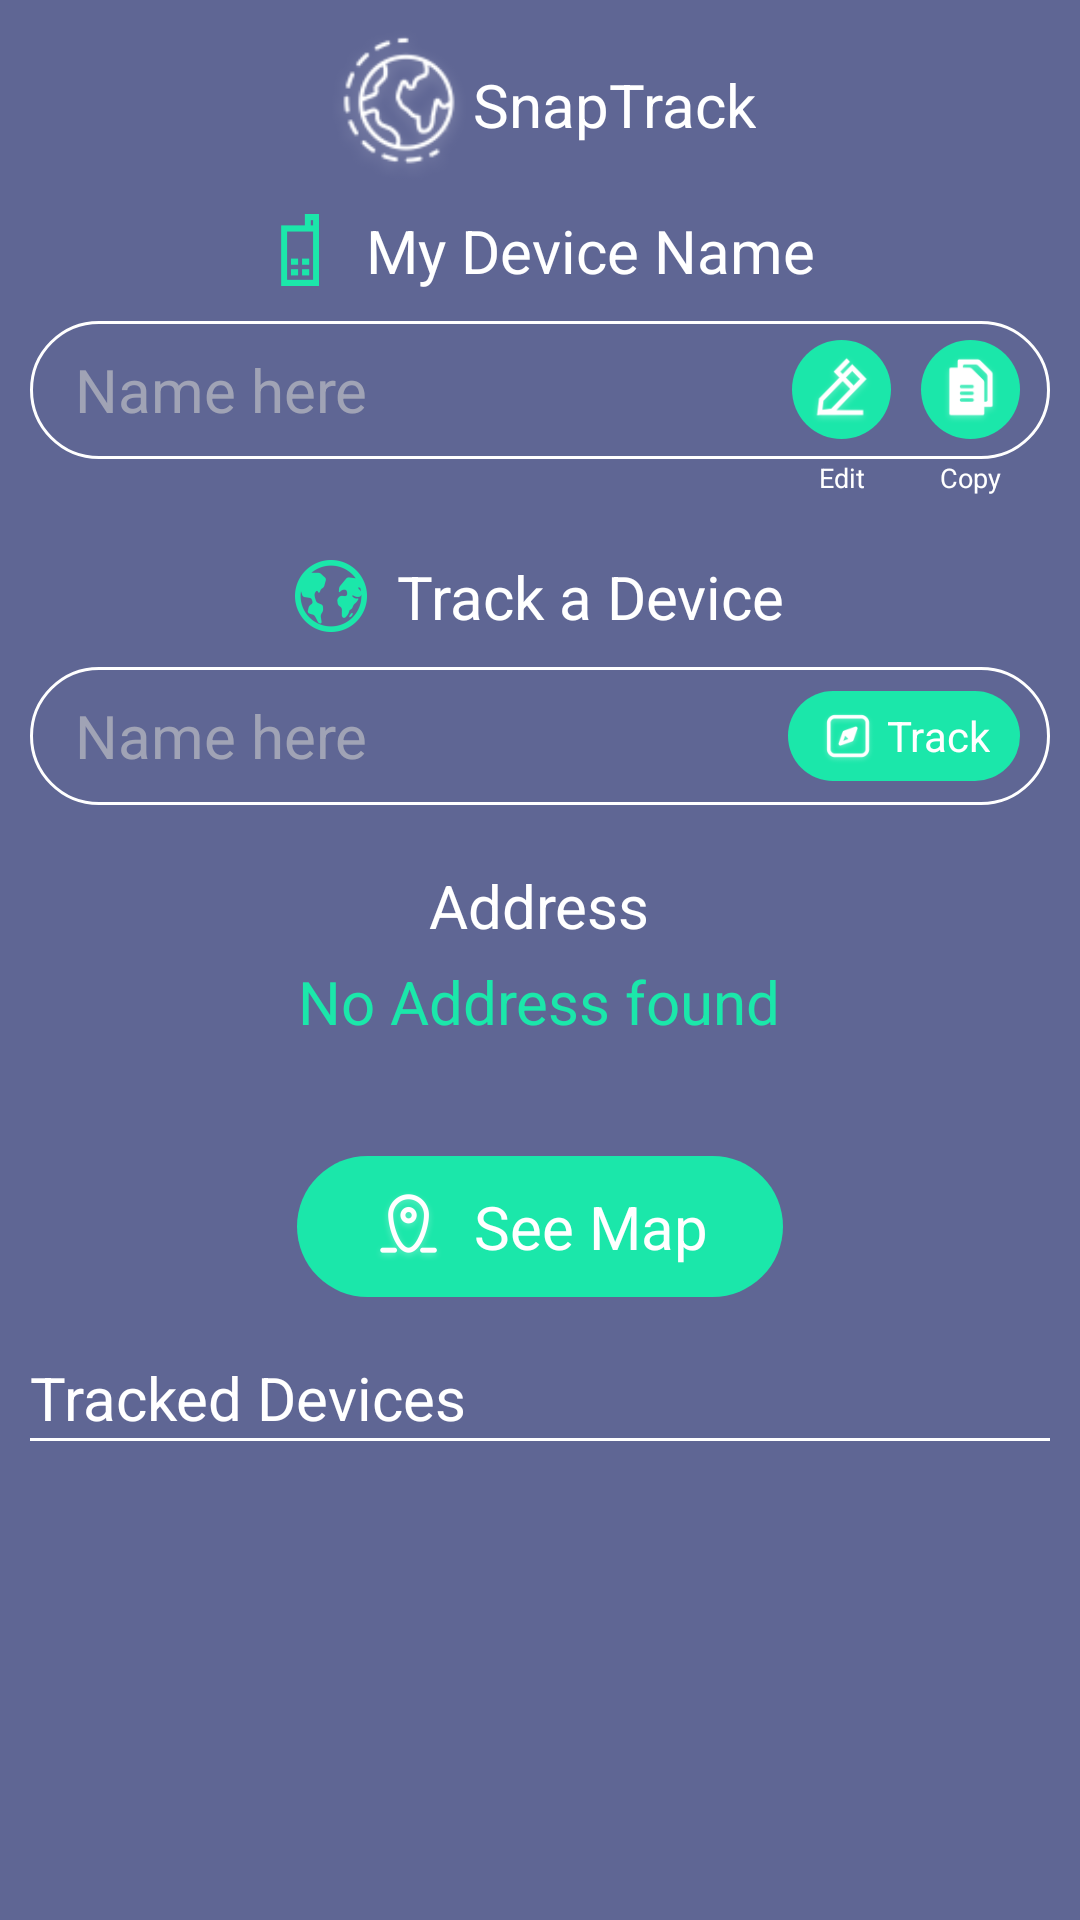

Icons on this 1080x1920 Android screen, each with the point to tap as (x,y):
earth: (331,596)
pinmap: (408,1225)
